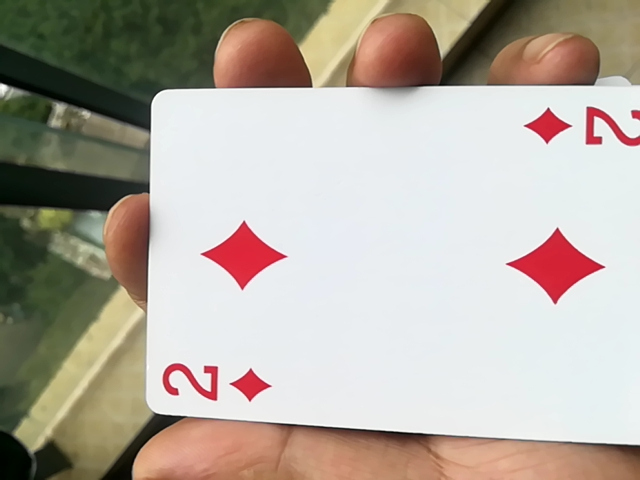fk 2: (129, 97, 635, 458)
